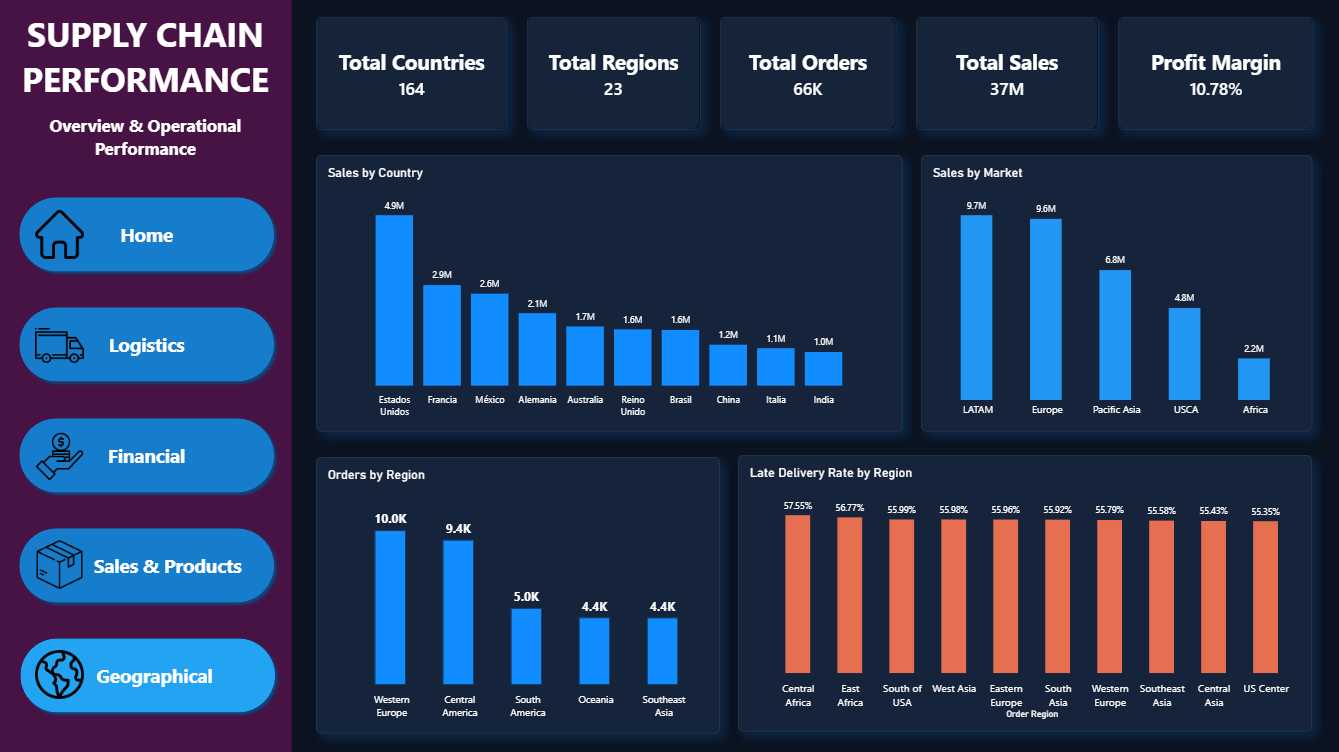

This screenshot's page, from the dashboard's own definition file:
{"tool":"powerbi","page":{"name":"Geographical Performance","canvas":[1920,1080],"ordinal":4},"visuals":[{"type":"shape","box":[0,0,1920,1080],"z":0},{"type":"shape","box":[0,0,418,1080],"z":1000},{"type":"cardVisual","title":"Total Orders","fields":{"Data":["Medidas.Total Countries"]},"box":[452.4,27.1,273.3,161.1],"z":2000},{"type":"shape","box":[20,433.5,382,124],"z":2000,"group":"g1"},{"type":"shape","box":[20,591,382,124],"z":2000,"group":"g2"},{"type":"cardVisual","title":"Total Orders","fields":{"Data":["Medidas.Total Regions"]},"box":[753.7,27.1,247.9,161.1],"z":3000},{"type":"shape","box":[20,275.5,382,124],"z":3000,"group":"g5"},{"type":"shape","box":[20,748.5,382,124],"z":3000,"group":"g3"},{"type":"cardVisual","title":"Total Orders","fields":{"Data":["Medidas.Total Orders"]},"box":[1029.7,27.1,251.5,161.1],"z":4000},{"type":"shape","box":[22,906,382,124],"z":4000,"group":"g4"},{"type":"cardVisual","title":"Total Orders","fields":{"Data":["Medidas.Total Sales"]},"box":[1309.3,27.1,260.6,161.1],"z":5000},{"type":"cardVisual","title":"Total Orders","fields":{"Data":["Medidas.Profit Margin"]},"box":[1597.9,27.1,280.5,161.1],"z":6000},{"type":"textbox","box":[0,18,418,230],"z":7000},{"type":"group","id":"g1","title":"Grupo 2","box":[20,433.5,382,124],"z":8000},{"type":"group","id":"g2","title":"Grupo 3","box":[20,591,382,124],"z":9000},{"type":"group","id":"g3","title":"Grupo 4","box":[20,748.5,382,124],"z":10000},{"type":"image","box":[52,620,70,70],"z":11000,"group":"g2"},{"type":"group","id":"g4","title":"Grupo 5","box":[22,906,382,124],"z":11000},{"type":"clusteredColumnChart","title":"Sales by Country","fields":{"Category":["DataCoSupplyChainDataset.Order Country"],"Y":["Medidas.Total Sales"]},"box":[452.4,224.4,837.9,394.5],"z":12000},{"type":"image","box":[52,302.5,70,70],"z":12000,"group":"g5"},{"type":"image","box":[52,462,70,70],"z":12000,"group":"g1"},{"type":"image","box":[52,932,70,70],"z":12000,"group":"g4"},{"type":"columnChart","title":"Sales by Market","fields":{"Category":["DataCoSupplyChainDataset.Market"],"Y":["Medidas.Total Sales"]},"box":[1317.4,224.4,559.2,395],"z":13000},{"type":"image","box":[52,774,70,70],"z":13000,"group":"g3"},{"type":"columnChart","title":"Orders by Region","fields":{"Category":["DataCoSupplyChainDataset.Order Region"],"Y":["Medidas.Total Orders"]},"box":[452.4,655.1,577.3,394.5],"z":14000},{"type":"clusteredColumnChart","title":"Late Delivery Rate by Region","fields":{"Category":["DataCoSupplyChainDataset.Order Region"],"Y":["Medidas.Late Delivery %"]},"box":[1055,653.3,819.8,394.5],"z":15000},{"type":"group","id":"g5","title":"Grupo 1","box":[20,275.5,382,124],"z":16000}]}

Visuals, with their boxes in screenshot pixels (x1, y1, x2, y2), scaled from the page's 1920x1080 canvas onto the 1339x752 screenshot:
shape: <box>0,0,1338,751</box>
shape: <box>0,0,292,751</box>
"Total Orders" cardVisual: <box>316,19,506,131</box>
shape: <box>14,302,280,388</box>
shape: <box>14,412,280,498</box>
"Total Orders" cardVisual: <box>526,19,699,131</box>
shape: <box>14,192,280,278</box>
shape: <box>14,521,280,608</box>
"Total Orders" cardVisual: <box>718,19,894,131</box>
shape: <box>15,631,282,717</box>
"Total Orders" cardVisual: <box>913,19,1095,131</box>
"Total Orders" cardVisual: <box>1114,19,1310,131</box>
textbox: <box>0,13,292,173</box>
"Grupo 2" group: <box>14,302,280,388</box>
"Grupo 3" group: <box>14,412,280,498</box>
"Grupo 4" group: <box>14,521,280,608</box>
image: <box>36,432,85,480</box>
"Grupo 5" group: <box>15,631,282,717</box>
"Sales by Country" clusteredColumnChart: <box>316,156,900,431</box>
image: <box>36,211,85,259</box>
image: <box>36,322,85,370</box>
image: <box>36,649,85,698</box>
"Sales by Market" columnChart: <box>919,156,1309,431</box>
image: <box>36,539,85,588</box>
"Orders by Region" columnChart: <box>316,456,718,731</box>
"Late Delivery Rate by Region" clusteredColumnChart: <box>736,455,1307,730</box>
"Grupo 1" group: <box>14,192,280,278</box>
